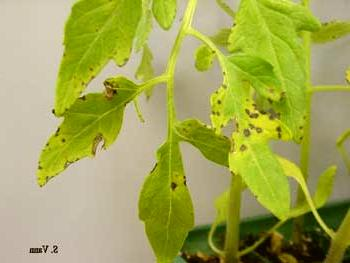Tomato leaf bacterial spot: (202, 51, 296, 223), (37, 70, 155, 190), (137, 128, 195, 263)
